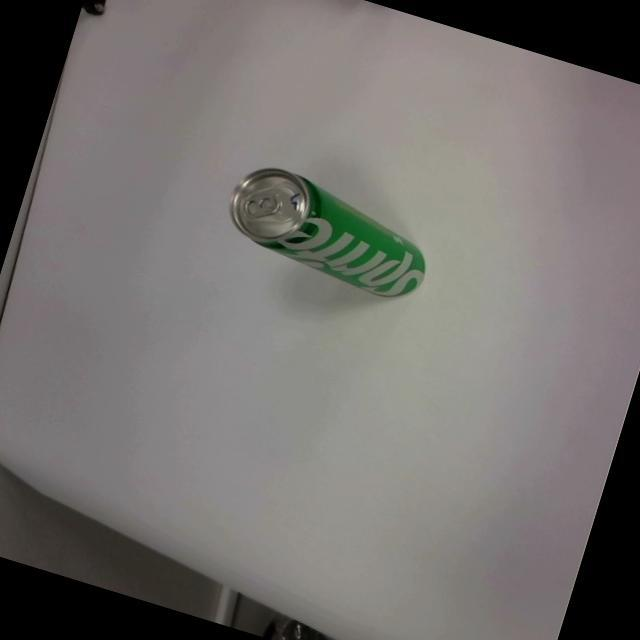debris: (215, 155, 442, 306)
